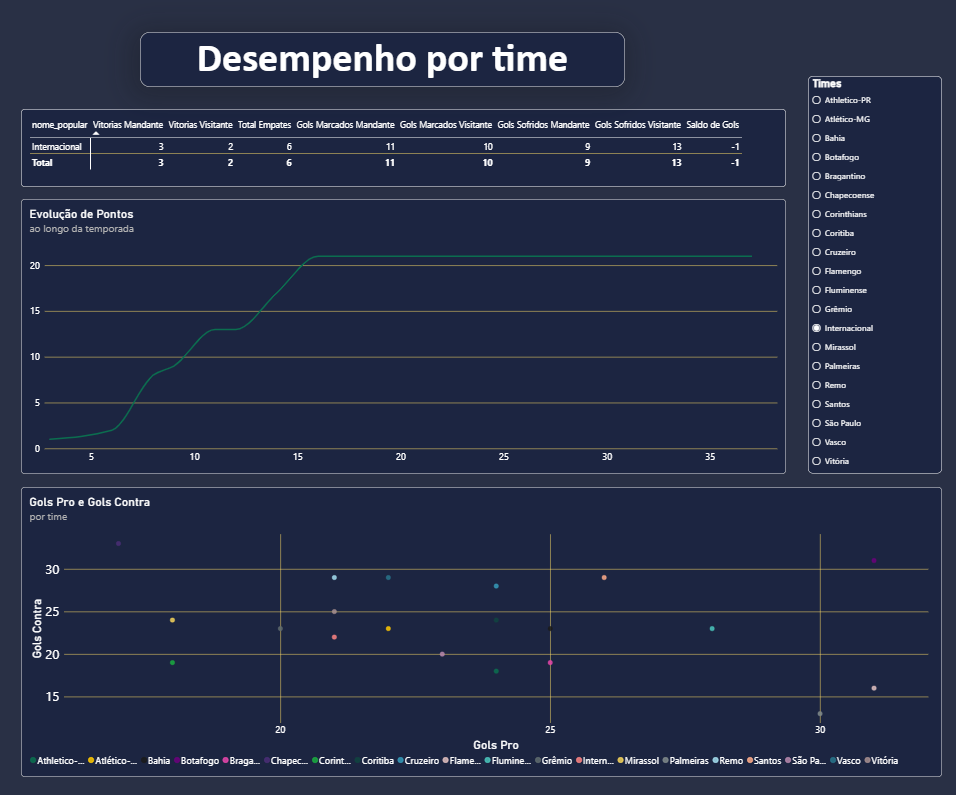

Layout of this report page (visuals, bound fields, positions):
{"tool":"powerbi","page":{"name":"Desempenho por Time","canvas":[1920,1600],"ordinal":1},"visuals":[{"type":"pivotTable","fields":{"Rows":["times.nome_popular"],"Values":["partidas.Vitorias Mandante","partidas.Vitorias Visitante","partidas.Total Empates","partidas.Gols Marcados Mandante","partidas.Gols Marcados Visitante","partidas.Gols Sofridos Mandante","partidas.Gols Sofridos Visitante","partidas.Saldo de Gols"]},"box":[101.7,221.7,1471.7,156.7],"z":0},{"type":"textbox","box":[281.7,68.3,970,110],"z":1000},{"type":"slicer","fields":{"Values":["times.nome_popular"]},"box":[1618.3,156.7,268.3,795],"z":2000},{"type":"lineChart","title":"Evolução de Pontos","fields":{"Category":["partidas.rodada"],"Y":["partidas.Pontos Acumulados"]},"box":[101.7,401.7,1471.7,550],"z":3000},{"type":"scatterChart","title":"Gols Pro e Gols Contra","fields":{"Series":["times.nome_popular"],"X":["partidas.Gols Pro"],"Y":["partidas.Gols Contra"]},"box":[101.7,990,1785,543.3],"z":3001}]}

Visuals, with their boxes in screenshot pixels (x1, y1, x2, y2), scaled from the page's 1920x1600 canvas onto the 956x795 screenshot:
pivotTable - times.nome_popular x partidas.Vitorias Mandante: [x1=51, y1=110, x2=783, y2=188]
textbox: [x1=140, y1=34, x2=623, y2=89]
slicer - times.nome_popular: [x1=806, y1=78, x2=939, y2=473]
"Evolução de Pontos" lineChart: [x1=51, y1=200, x2=783, y2=473]
"Gols Pro e Gols Contra" scatterChart: [x1=51, y1=492, x2=939, y2=762]
